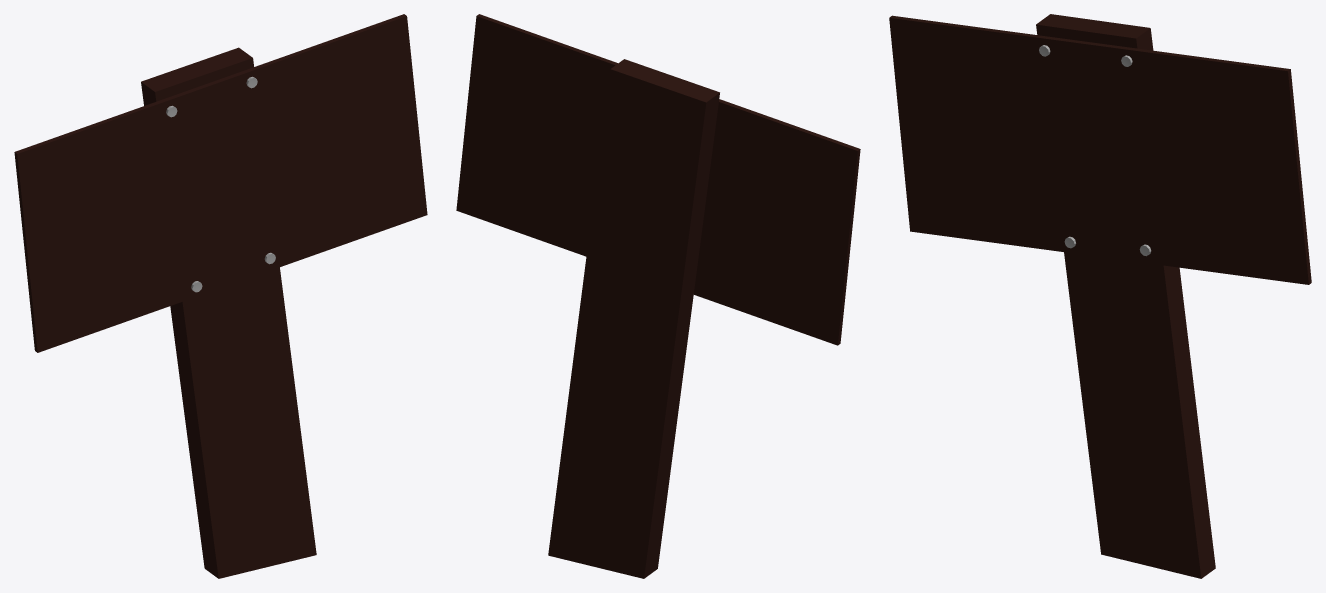
Rendered from woodsign_04.fbx.
3 views of the same model, side by side, from view 1: azimuth 30°, elevation 25°; view 2: azimuth 150°, elevation 25°; view 3: azimuth 330°, elevation 25° (orthographic). The views are drawn at different scales.
Visible parts, largest first — view 1: polySurface2, polySurface1; view 2: polySurface2, polySurface1; view 3: polySurface2, polySurface1.
Part boxes in pixels (bbox=[...]): polySurface2: bbox=[14, 14, 427, 352]; polySurface1: bbox=[141, 47, 316, 578]; polySurface2: bbox=[456, 14, 860, 345]; polySurface1: bbox=[548, 59, 719, 578]; polySurface2: bbox=[889, 15, 1311, 284]; polySurface1: bbox=[1036, 14, 1215, 578].
Bounding box in the file's own units: 83.03 × 101 × 6.67.
